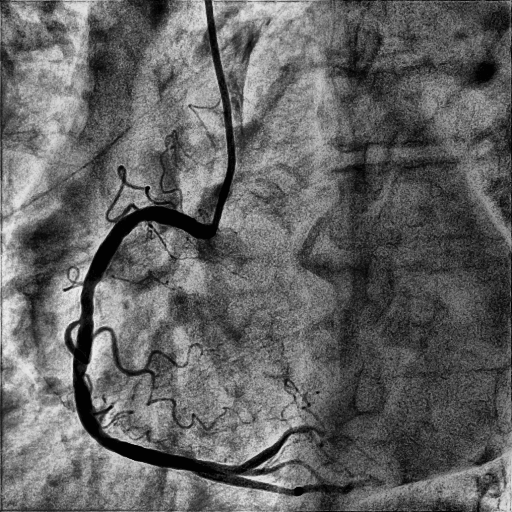pborca: (201, 425, 319, 475)
pda: (195, 468, 380, 496)
rca: (73, 206, 209, 473)
